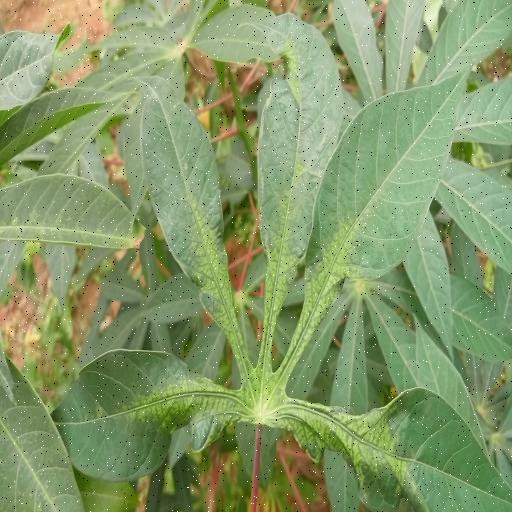Cassava_Mosaic: (47, 11, 512, 512)
